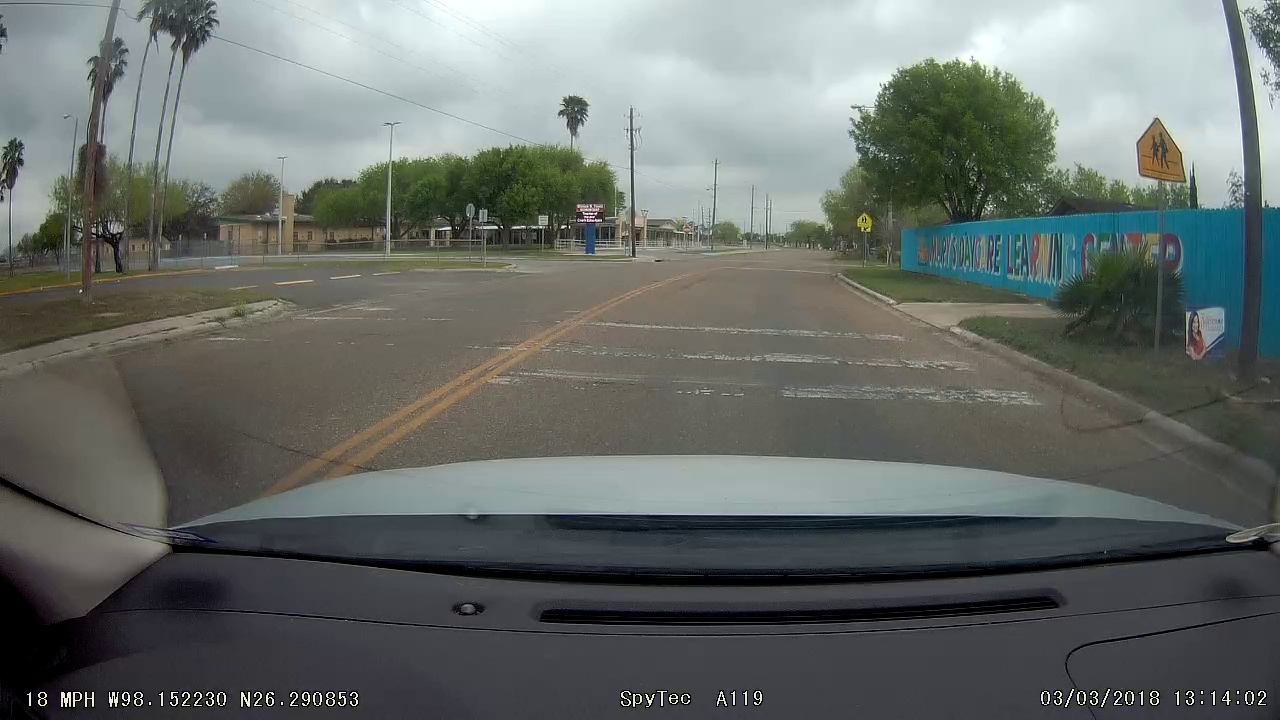blurredLine: (487, 313, 996, 380), (507, 361, 1022, 409)
